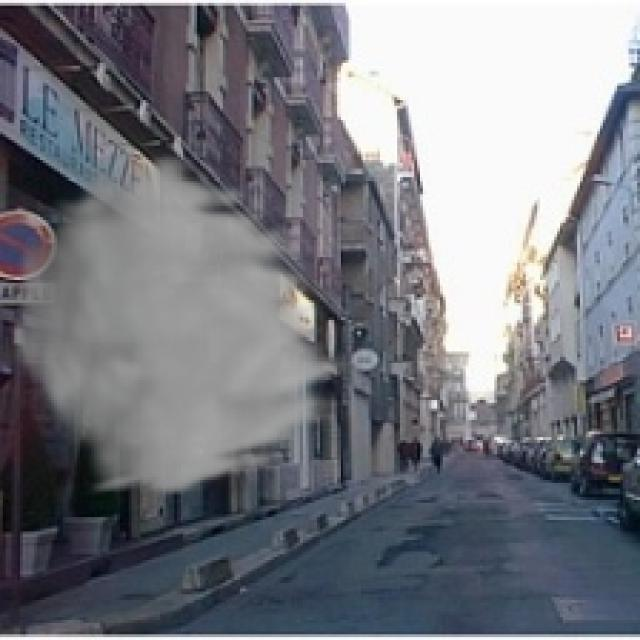Smoke: (6, 148, 360, 501)
